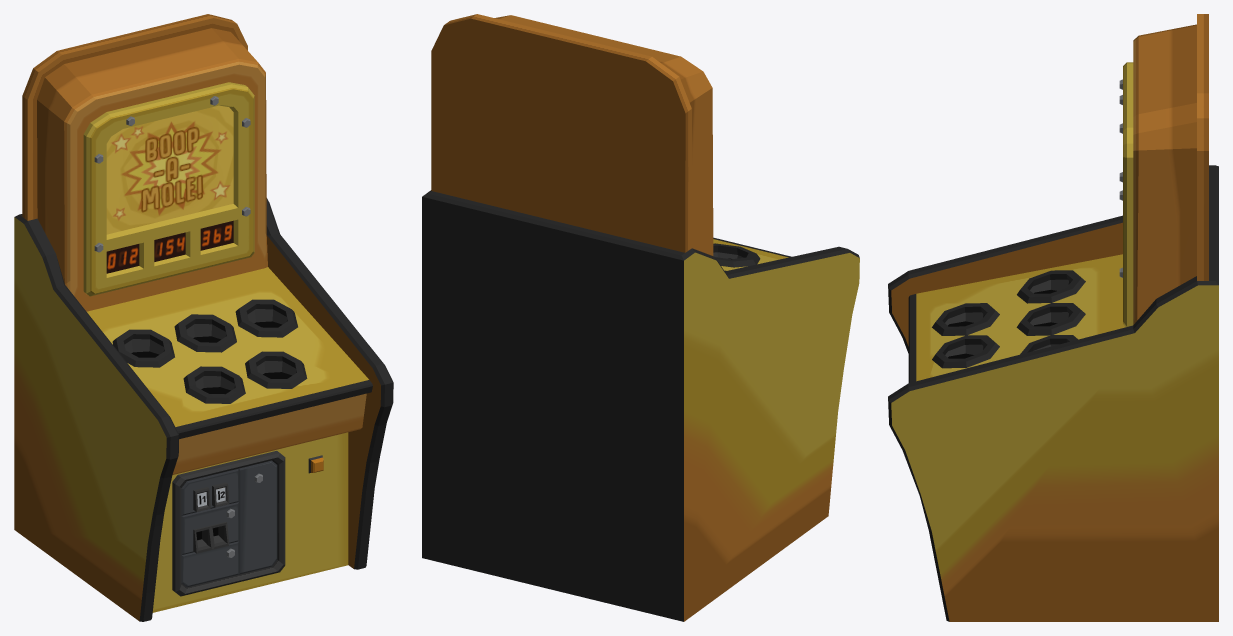
File: SM_Prop_Arcade_Machine_01.obj
3 renders of one model, left to right at view 1: azimuth 30°, elevation 25°; view 2: azimuth 150°, elevation 25°; view 3: azimuth 270°, elevation 25°, orthographic. The views are drawn at different scales.
Visible parts, largest first — view 1: SM_Prop_Arcade_Machine_01_0; view 2: SM_Prop_Arcade_Machine_01_0; view 3: SM_Prop_Arcade_Machine_01_0.
Boxes of the visible parts, x1,y1,x2,y2 form: SM_Prop_Arcade_Machine_01_0: (14,14,393,621); SM_Prop_Arcade_Machine_01_0: (422,14,859,621); SM_Prop_Arcade_Machine_01_0: (888,14,1218,621).
Bounding box in the file's own units: 1.09 × 2.16 × 1.27.
1 material, 1 textured.
